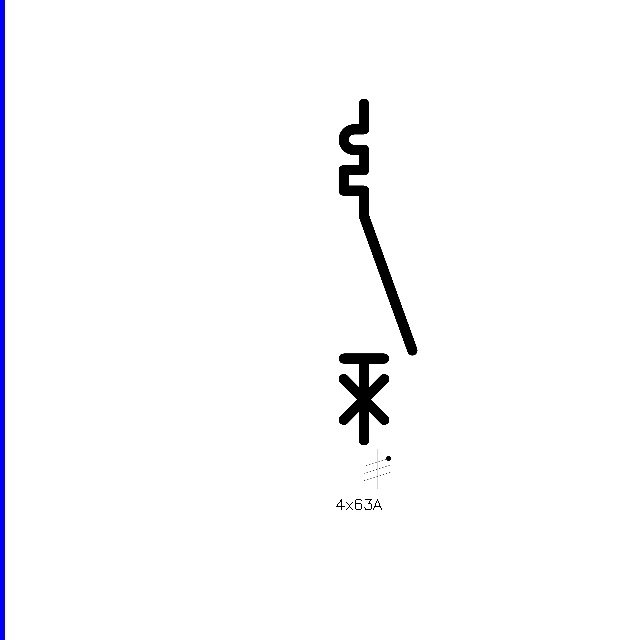interruptor_termomagnetico: (335, 95, 421, 449)
